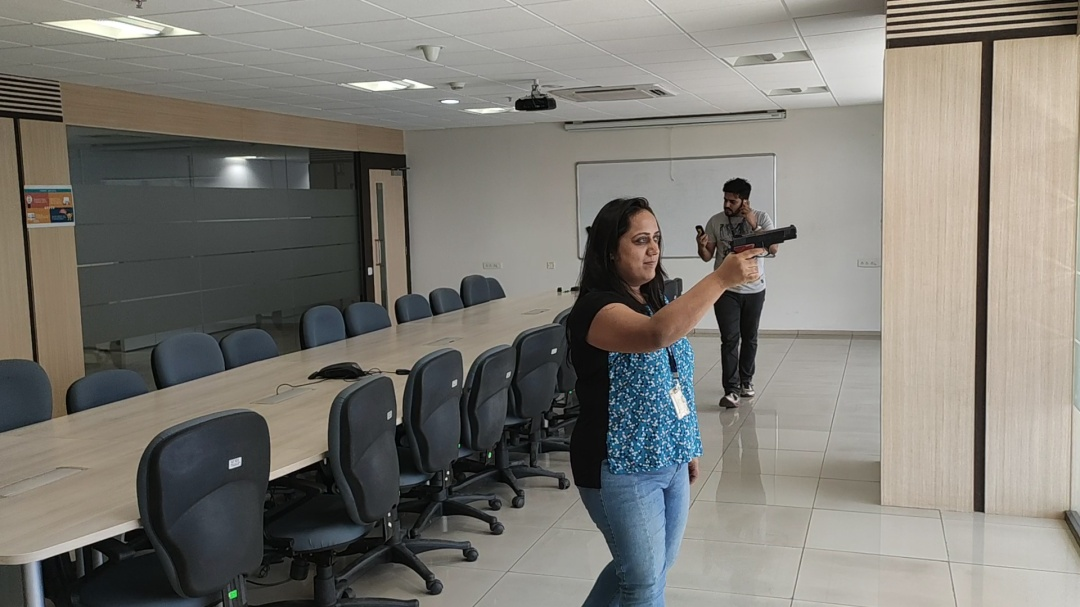gun: (730, 224, 798, 258)
